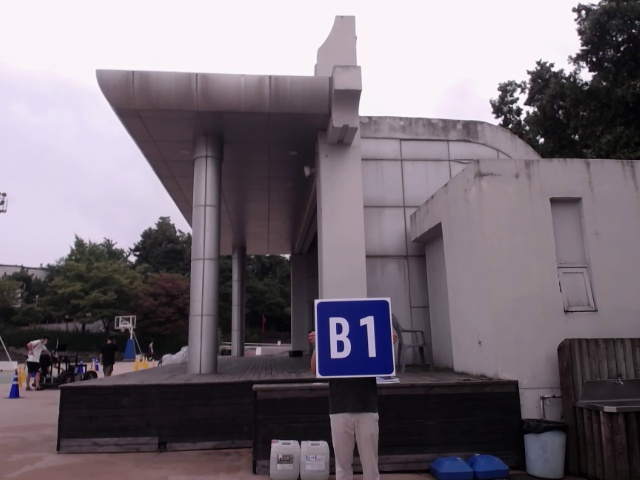delivery_b1: (314, 298, 396, 378)
